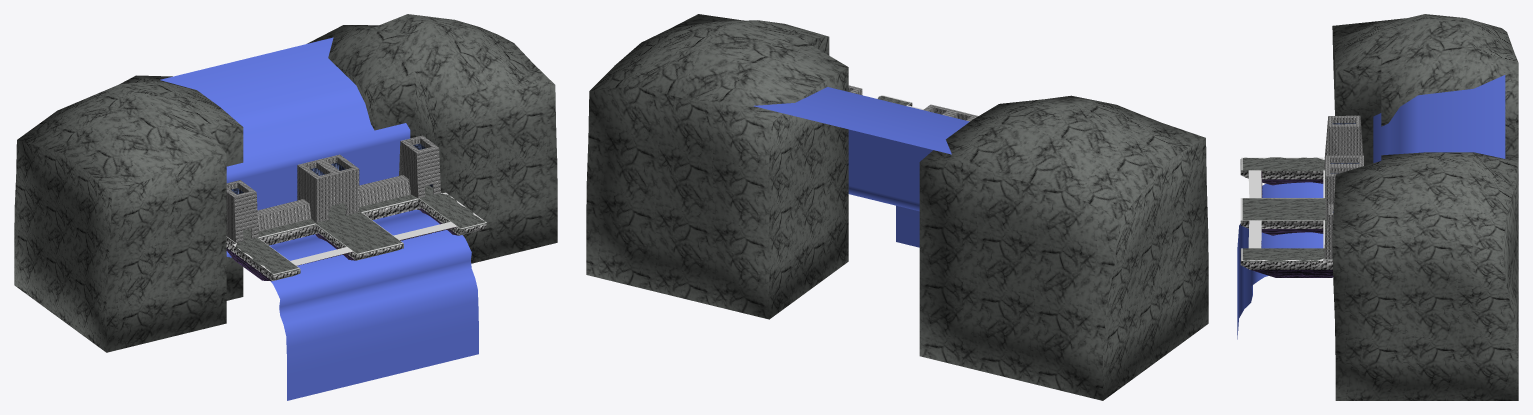
Rendered from Betterlevel.glb.
The picture shows the model from 3 angles, left to right: view 1: azimuth 30°, elevation 25°; view 2: azimuth 150°, elevation 25°; view 3: azimuth 270°, elevation 25°; orthographic projection. The views are drawn at different scales.
Parts seen in each view (by area): view 1: Cube.002, Plane, Cube.001, Cube, Plane.001, Plane.004; view 2: Cube.002, Cube.001, Plane; view 3: Cube.001, Cube.002, Plane, Plane.001, Cube, Plane.004.
Part boxes in pixels (bbox=[...]): Cube.002: bbox=[14, 75, 243, 352]; Plane: bbox=[160, 37, 478, 400]; Cube.001: bbox=[307, 14, 557, 263]; Cube: bbox=[226, 135, 440, 242]; Plane.001: bbox=[226, 185, 486, 281]; Plane.004: bbox=[226, 192, 486, 274]; Cube.002: bbox=[919, 95, 1208, 400]; Cube.001: bbox=[586, 14, 848, 319]; Plane: bbox=[753, 87, 969, 247]; Cube.001: bbox=[1332, 152, 1518, 400]; Cube.002: bbox=[1332, 14, 1518, 165]; Plane: bbox=[1237, 75, 1505, 339]; Plane.001: bbox=[1240, 157, 1333, 277]; Cube: bbox=[1324, 115, 1363, 258]; Plane.004: bbox=[1240, 157, 1332, 260].
Size of the model in its own units: 469 by 240 by 249.
Materials: 8 (6 with a texture image).
